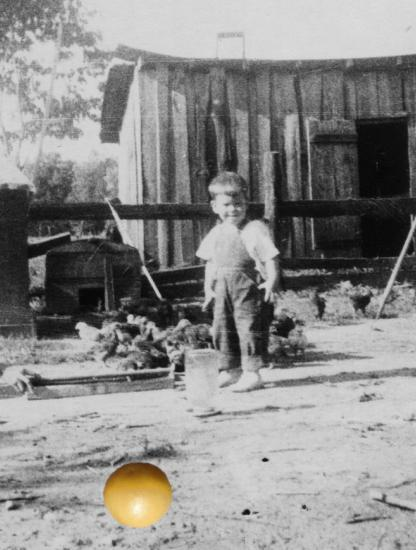Grapefruit: (103, 459, 175, 531)
